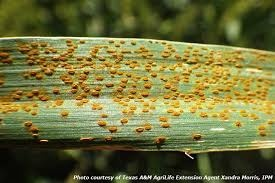Leaf Rust: (11, 37, 243, 136)
